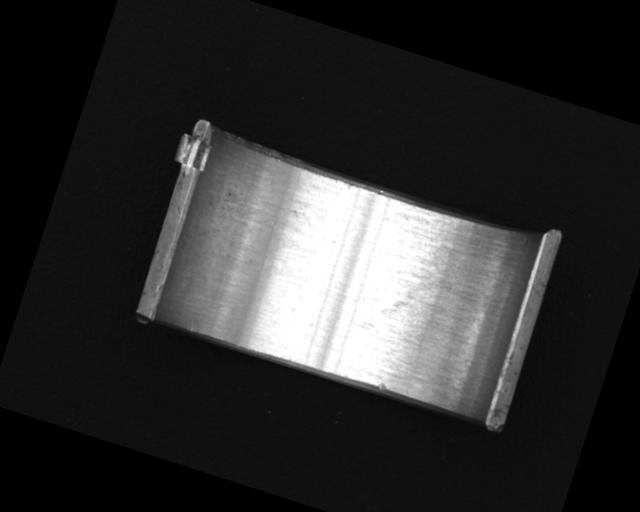bruise: (376, 380, 390, 392)
